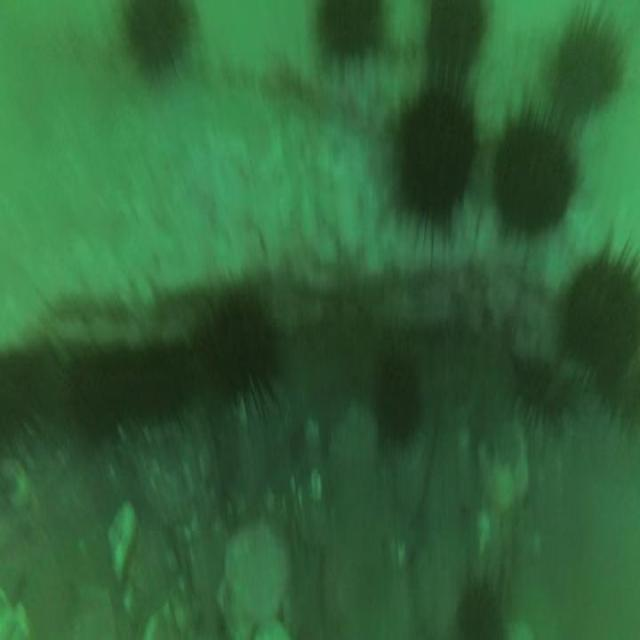echinus: (398, 95, 478, 221), (495, 115, 573, 232), (565, 259, 640, 378), (205, 304, 275, 406), (553, 22, 618, 114), (64, 359, 122, 449), (127, 0, 187, 71), (316, 0, 382, 62), (376, 354, 422, 442), (132, 354, 185, 425), (428, 2, 484, 68), (1, 349, 41, 438), (514, 357, 560, 430), (455, 586, 498, 640)
scallop: (211, 520, 287, 638)
